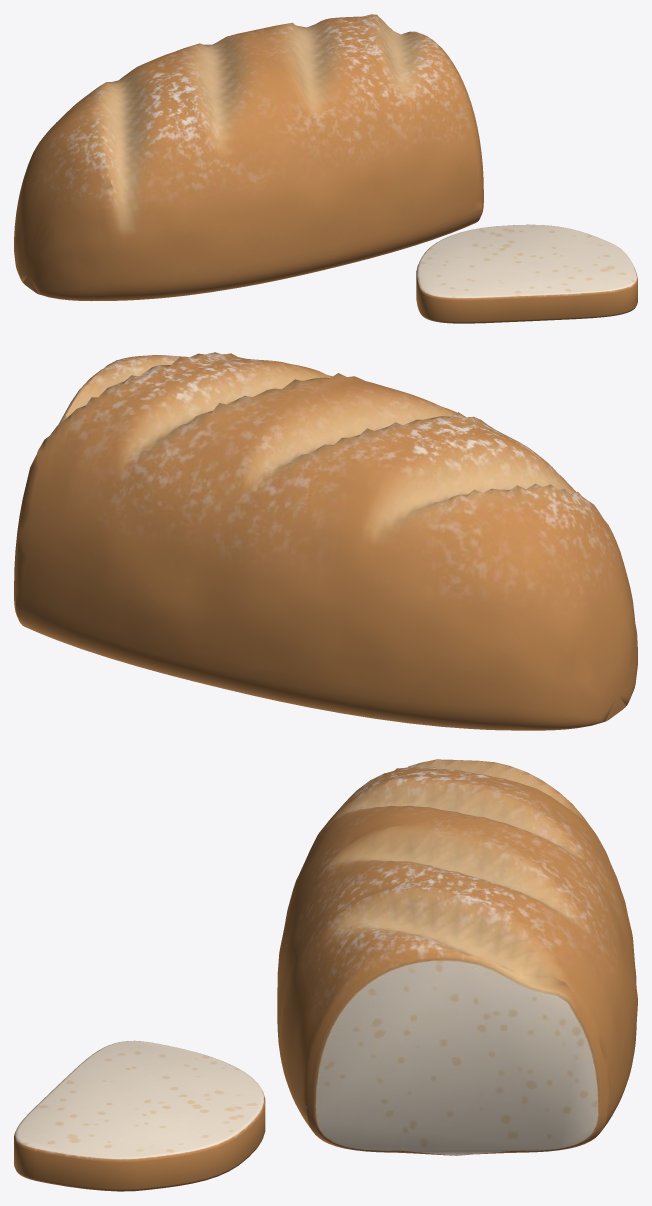
The model's file is jesus.glb.
3 views of the same model, one above another, from view 1: azimuth 30°, elevation 25°; view 2: azimuth 150°, elevation 25°; view 3: azimuth 270°, elevation 25° (orthographic). The views are drawn at different scales.
Visible parts, largest first — view 1: bread-loaf_body; view 2: bread-loaf_body; view 3: bread-loaf_body.
Part boxes in pixels (<box>): bread-loaf_body: <box>14,14,637,323</box>; bread-loaf_body: <box>14,352,637,730</box>; bread-loaf_body: <box>14,759,637,1191</box>.
Bounding box in the file's own units: 0.2465 × 0.0943 × 0.2289.
Materials: 2 (2 with a texture image).
